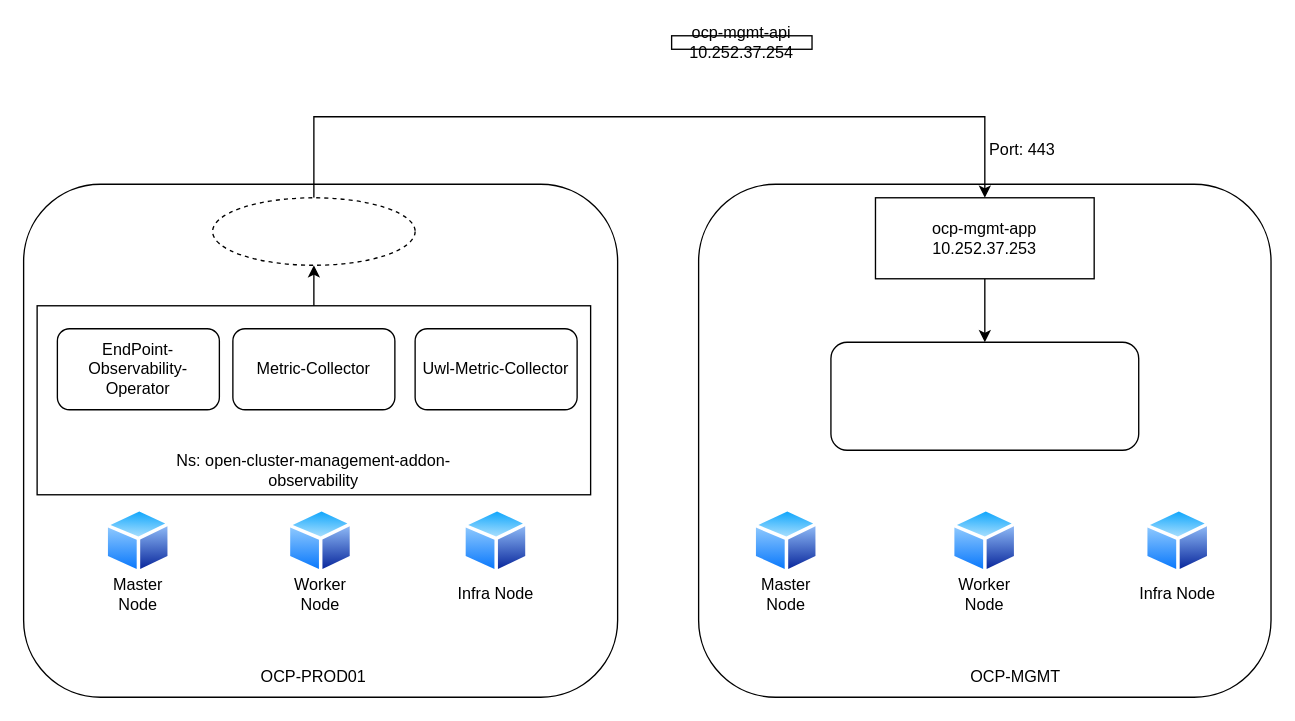
The diagram is 1295 pixels wide and 721 high, and some of its shapes have lost their labels. The shapes that lost their labels are listed below. From the top down, each one's box as (x1, y1, x2, y2) in pixels, then its label:
(211, 196, 415, 265): EgressIP: 10.252.38.152
(830, 341, 1139, 450): NS: open-cluster-management-observability
